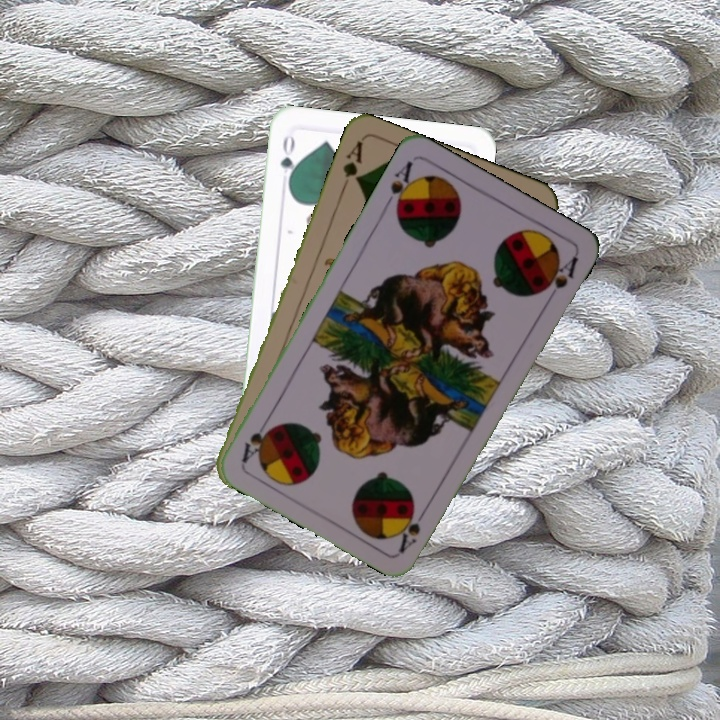GA: (337, 137, 366, 195)
GO: (276, 130, 299, 190)
SA: (380, 156, 420, 216), (395, 500, 432, 555)
